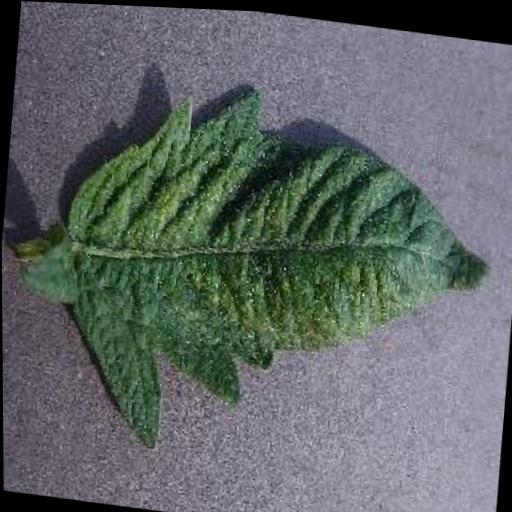Spider Mites: (42, 65, 504, 489)
